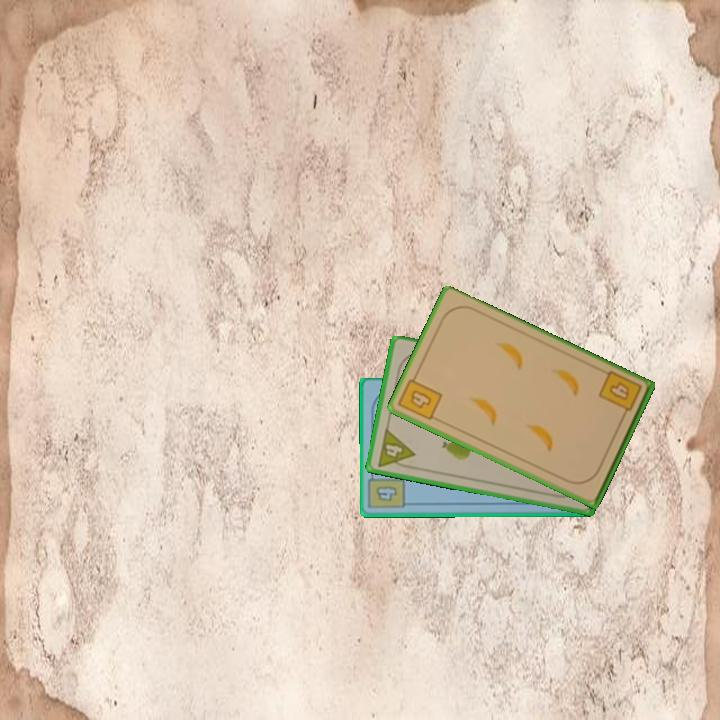4b: (395, 370, 445, 424), (595, 368, 645, 422), (367, 468, 408, 512)
4p: (374, 425, 417, 472)
